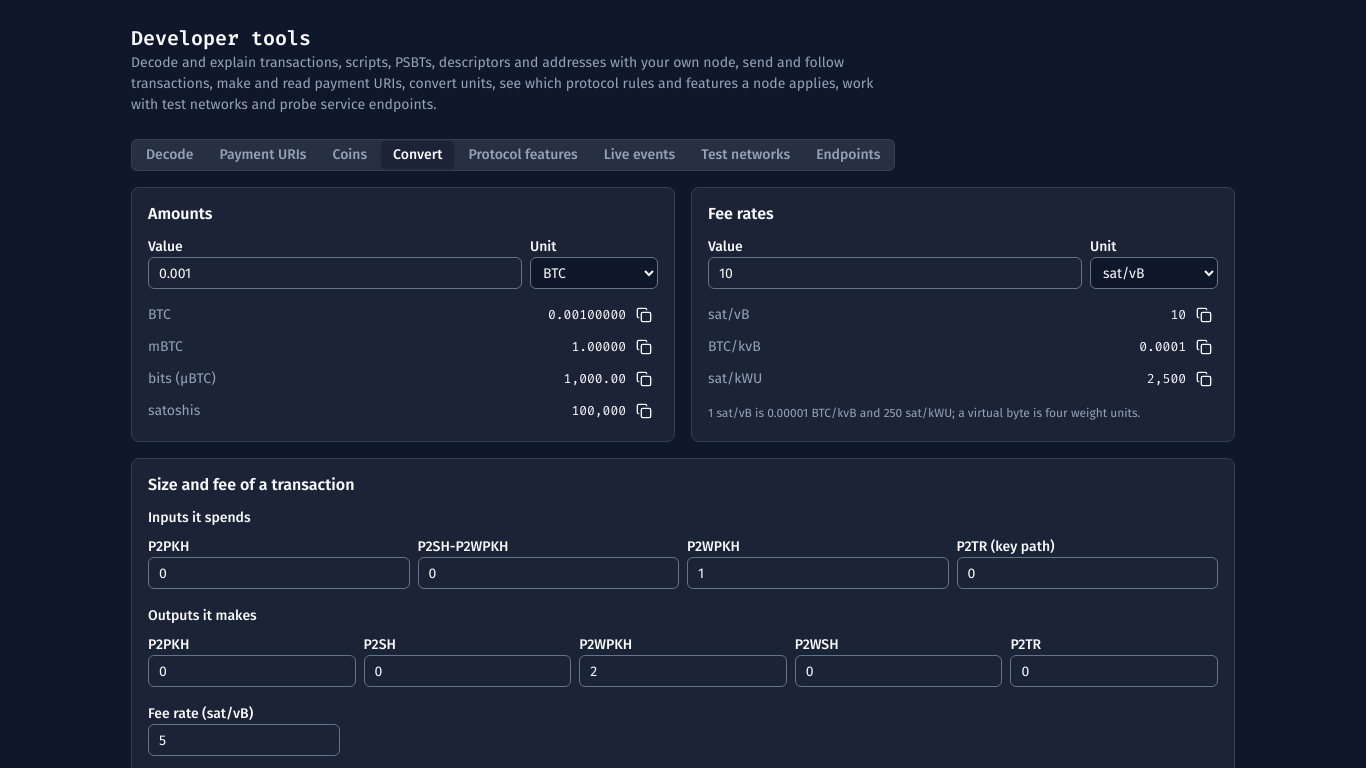
Developer tools › converts amounts in the window, refusing fractions of a satoshi
The width and height of the screenshot is (1366, 768).
expect the text "100,000" is shown: met, box [571, 401, 626, 421]
Replace the text in the field labelled "Value" below "Amounts" with "0.000000001" at [335, 273], box [148, 257, 522, 289]
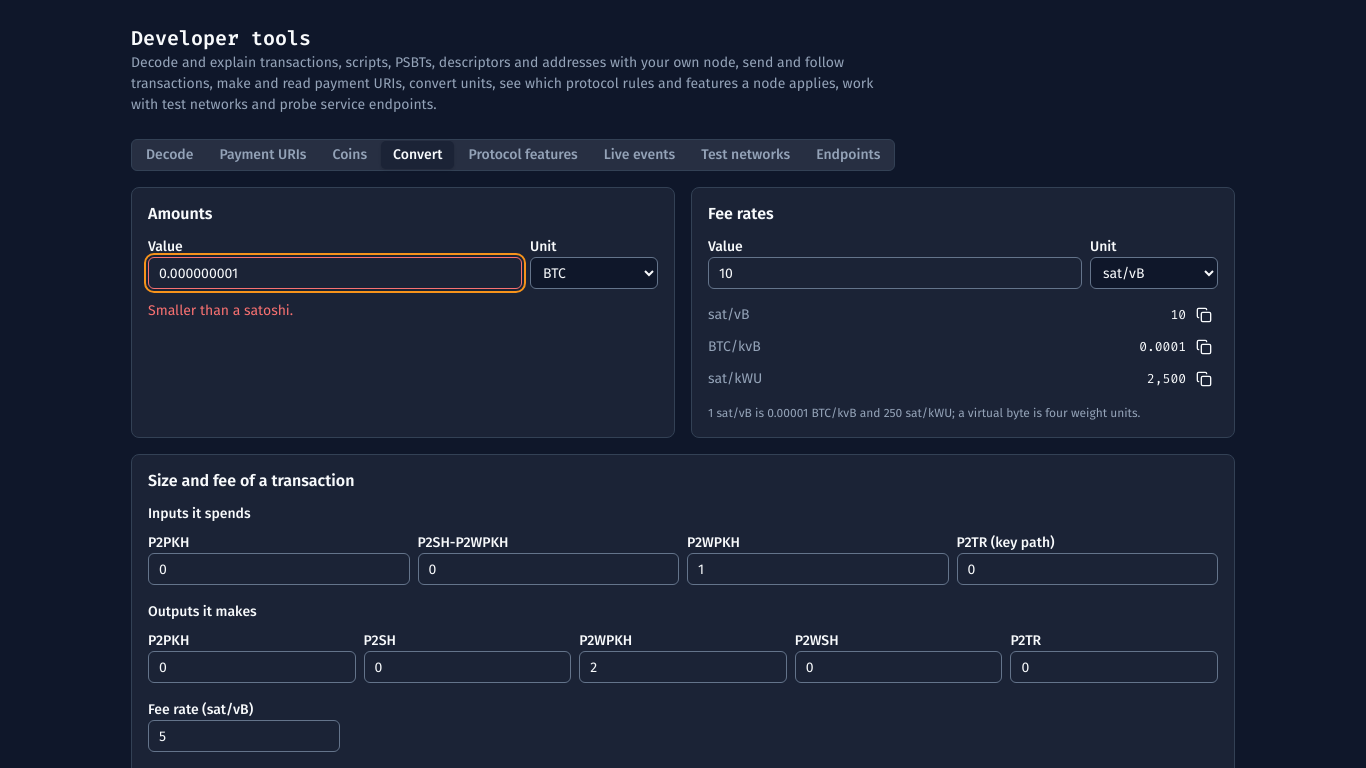
expect the text "Smaller than a satoshi." is shown: met, box [148, 302, 293, 319]
